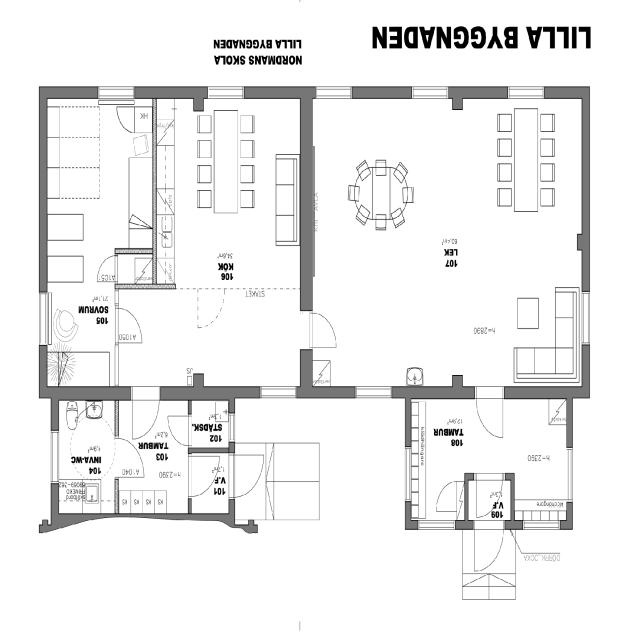door: (473, 382, 508, 440), (471, 518, 507, 573), (470, 473, 510, 522), (230, 448, 266, 501), (129, 386, 161, 441), (187, 449, 219, 498), (307, 307, 341, 353), (431, 475, 464, 518), (115, 303, 145, 343), (117, 437, 145, 477), (166, 411, 194, 446), (115, 100, 137, 136), (95, 251, 119, 283)
window: (517, 510, 565, 532), (577, 287, 593, 350), (36, 288, 51, 350), (408, 82, 452, 102), (504, 81, 547, 101), (205, 82, 247, 101), (414, 516, 458, 534), (564, 442, 576, 506), (256, 382, 297, 400), (314, 83, 355, 100), (48, 428, 60, 485), (352, 383, 394, 399), (226, 410, 238, 444)
zone: (308, 109, 550, 391), (189, 111, 290, 287), (46, 103, 155, 248), (502, 394, 570, 522), (56, 397, 118, 500), (46, 278, 118, 347), (190, 398, 232, 448), (470, 472, 510, 521), (115, 251, 155, 288)
